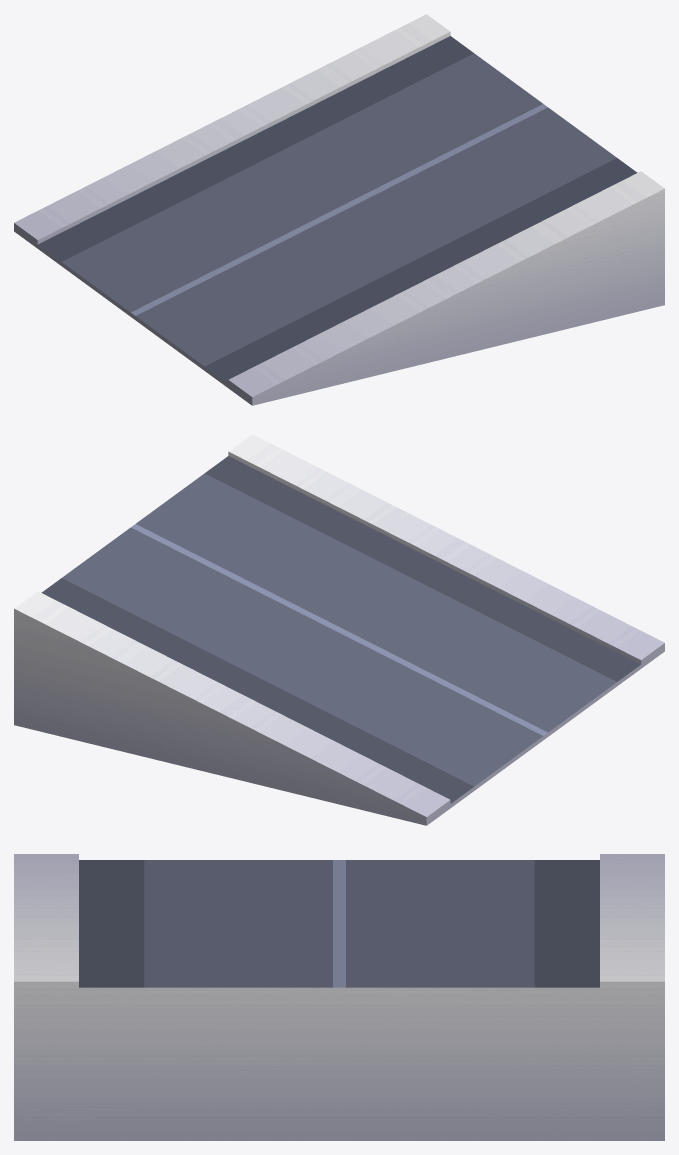
Rendered from road_slant.glb.
3 renders of one model, top to bottom at view 1: azimuth 30°, elevation 25°; view 2: azimuth 150°, elevation 25°; view 3: azimuth 270°, elevation 25°, orthographic. The views are drawn at different scales.
Visible parts, largest first — view 1: road-slant; view 2: road-slant; view 3: road-slant.
Boxes of the visible parts, x1,y1,x2,y2 form: road-slant: (14,14,664,405); road-slant: (14,434,664,825); road-slant: (14,854,664,1140).
Size of the model in its own units: 1 by 0.27 by 1.
1 material, 1 textured.
